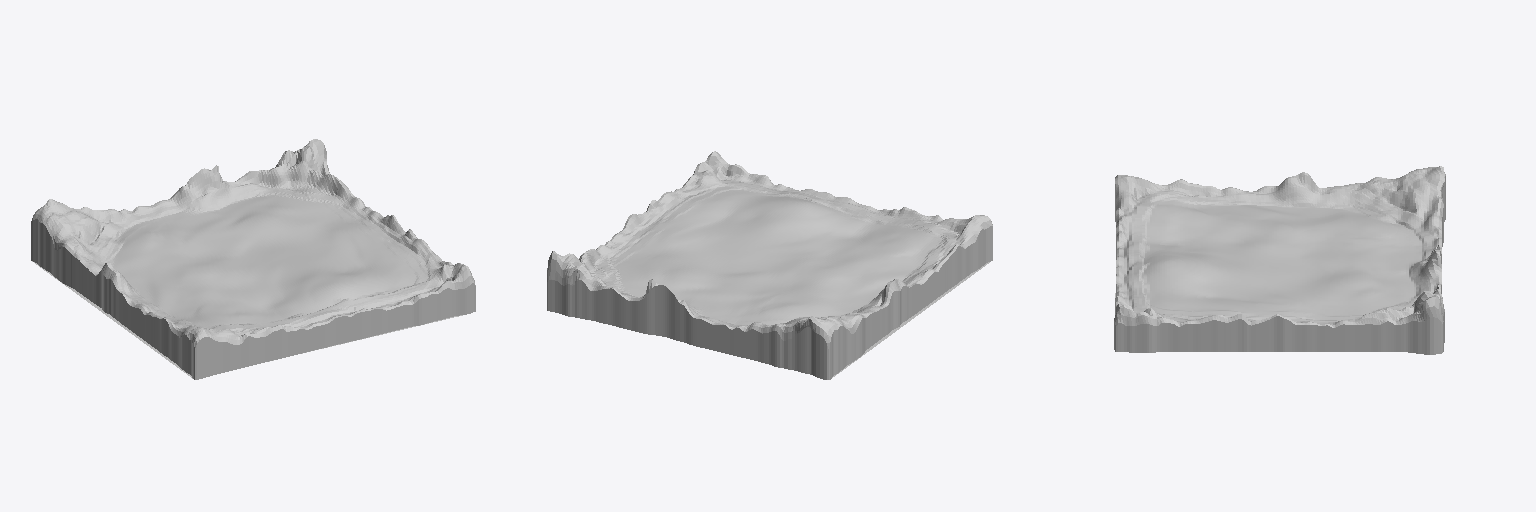
Rendered from map.obj.
The picture shows the model from 3 angles: view 1: azimuth 30°, elevation 25°; view 2: azimuth 150°, elevation 25°; view 3: azimuth 270°, elevation 25°; orthographic projection.
Visible parts, largest first — view 1: Plane; view 2: Plane; view 3: Plane.
Boxes of the visible parts, box(x1,y1,x2,y2) form: Plane: box(31, 139, 475, 379); Plane: box(547, 151, 992, 379); Plane: box(1114, 166, 1445, 354).
Size of the model in its own units: 149 by 28.67 by 149.